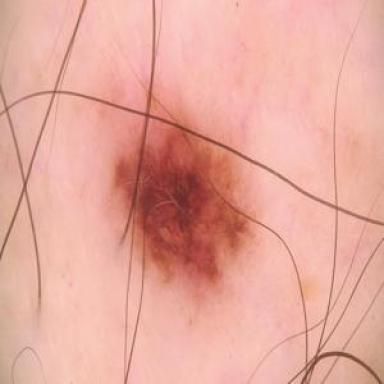Melanoma: (115, 121, 247, 281)
